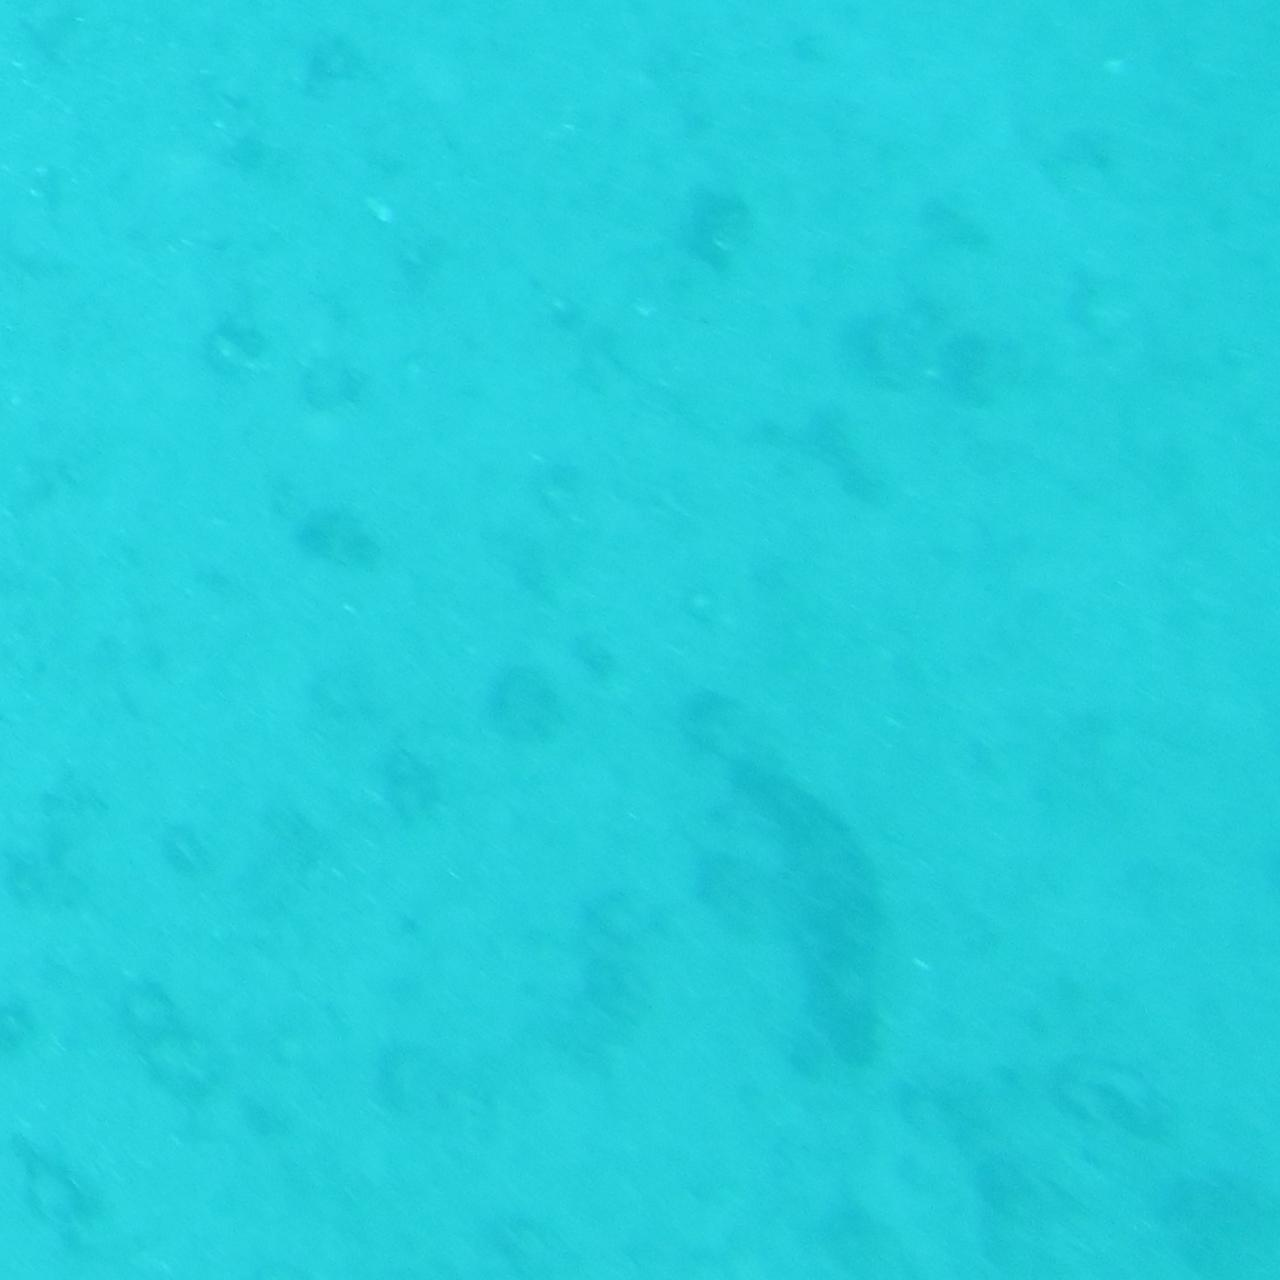Holothuria tubulosa: (729, 731, 894, 1092)
